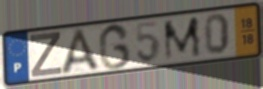0: (203, 12, 231, 58)
5: (134, 20, 163, 65)
A: (59, 26, 103, 77)
G: (97, 21, 132, 72)
M: (162, 14, 204, 63)
Z: (29, 31, 64, 79)
